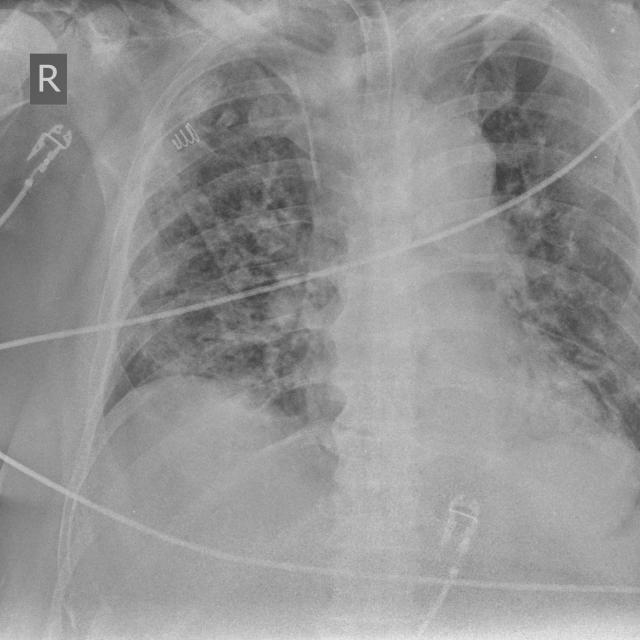abnormalities: (194, 143, 303, 369), (518, 147, 598, 366)
diaphragm: (90, 375, 640, 626)
heart: (298, 110, 630, 516)
left_lobe: (416, 11, 640, 513)
right_lobe: (97, 10, 346, 461)
